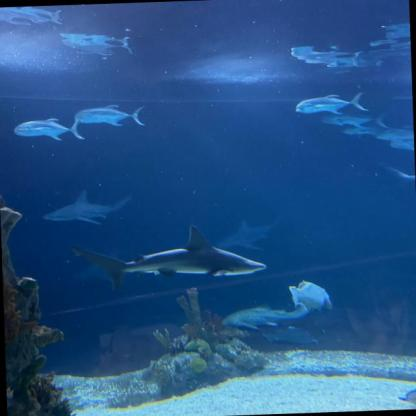fish: (219, 301, 309, 332), (14, 117, 84, 142), (294, 92, 370, 115), (74, 104, 146, 128), (289, 278, 332, 314), (321, 109, 391, 131)
shark: (65, 221, 266, 294), (43, 187, 134, 226), (382, 162, 414, 190)
